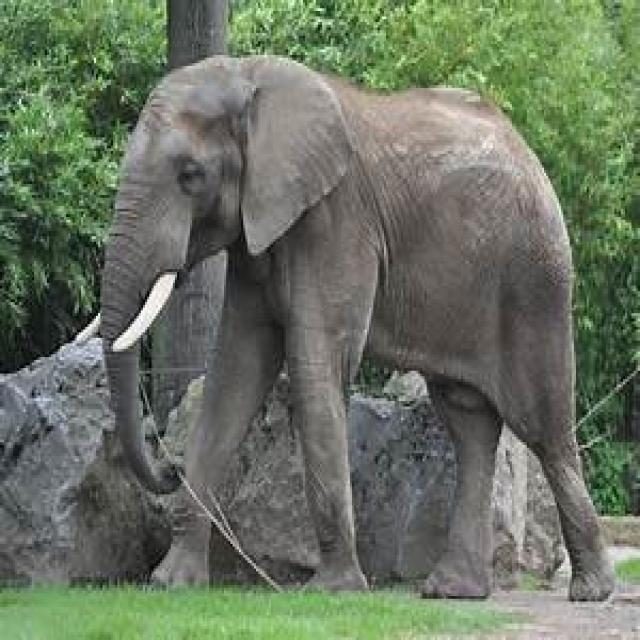elephant: (94, 55, 619, 604)
